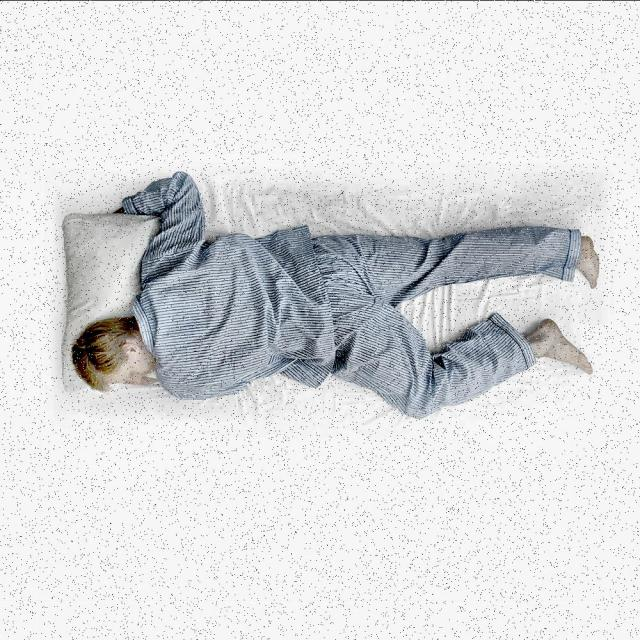Not_Supine: (72, 172, 599, 417)
